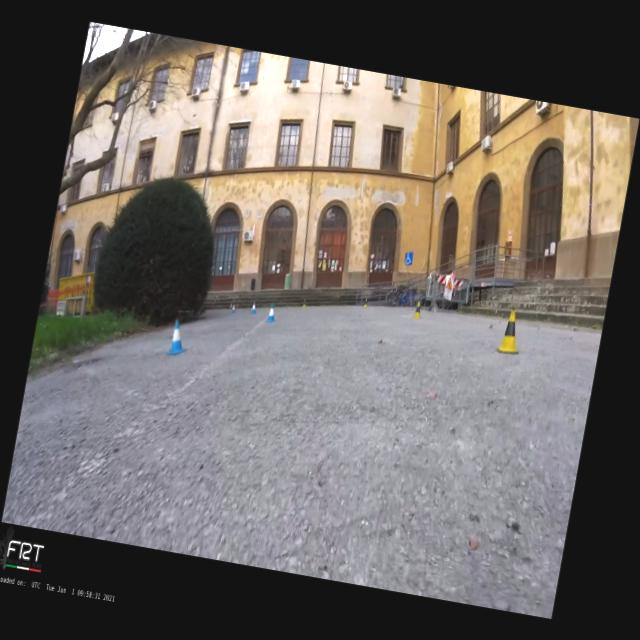blue_cone: (164, 318, 192, 358), (266, 302, 278, 324), (250, 302, 258, 314), (230, 304, 236, 314)
large_orange_cone: (228, 302, 232, 309), (236, 302, 238, 308)
yellow_cone: (496, 308, 526, 356), (413, 300, 424, 320), (362, 298, 368, 308), (302, 298, 308, 307)
